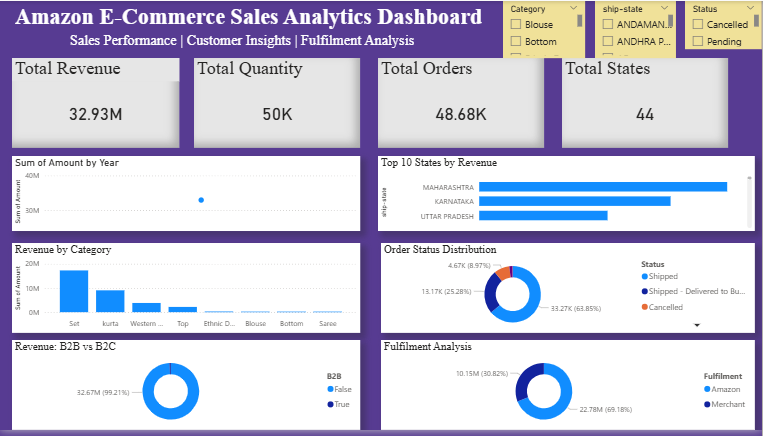

Layout of this report page (visuals, bound fields, positions):
{"tool":"powerbi","page":{"name":"Overview Dashboard","canvas":[1280,720],"ordinal":0},"visuals":[{"type":"textbox","box":[20.2,0,831.5,80.6],"z":0},{"type":"textbox","box":[112.5,48.7,596.3,79],"z":1000},{"type":"card","title":"Total Revenue","fields":{"Values":["Sum(amazon_sales_db amazon sale report.Amount)"]},"box":[20.2,95.7,280.5,151.2],"z":2000},{"type":"card","title":"Total Orders","fields":{"Values":["Count(amazon_sales_db amazon sale report.Order ID)"]},"box":[635,95.7,278.8,151.2],"z":3000},{"type":"card","title":"Total Quantity","fields":{"Values":["Sum(amazon_sales_db amazon sale report.Qty)"]},"box":[325.9,95.7,278.8,151.2],"z":4000},{"type":"card","title":"Total States","fields":{"Values":["Count(amazon_sales_db amazon sale report.ship-state)"]},"box":[944,95.7,278.8,151.2],"z":5000},{"type":"clusteredColumnChart","title":"Revenue by Category","fields":{"Category":["amazon_sales_db amazon sale report.Category"],"Y":["Sum(amazon_sales_db amazon sale report.Amount)"]},"box":[20.2,406.5,584.6,151.2],"z":6000},{"type":"clusteredBarChart","title":"Top 10 States by Revenue","fields":{"Category":["amazon_sales_db amazon sale report.ship-state"],"Y":["Sum(amazon_sales_db amazon sale report.Amount)"]},"box":[635,260.4,633.3,126],"z":7000},{"type":"donutChart","title":"Order Status Distribution","fields":{"Category":["amazon_sales_db amazon sale report.Status"],"Y":["CountNonNull(amazon_sales_db amazon sale report.Order ID)"]},"box":[640,406.5,628.2,151.2],"z":8000},{"type":"donutChart","title":"Fulfilment Analysis","fields":{"Category":["amazon_sales_db amazon sale report.Fulfilment"],"Y":["Sum(amazon_sales_db amazon sale report.Amount)"]},"box":[640,569.4,628.2,151.2],"z":9000},{"type":"lineChart","fields":{"Category":["amazon_sales_db amazon sale report.Date.Variation.Date Hierarchy.Year","amazon_sales_db amazon sale report.Date.Variation.Date Hierarchy.Quarter","amazon_sales_db amazon sale report.Date.Variation.Date Hierarchy.Month","amazon_sales_db amazon sale report.Date.Variation.Date Hierarchy.Day"],"Y":["Sum(amazon_sales_db amazon sale report.Amount)"]},"box":[20.2,260.4,584.6,126],"z":10000},{"type":"donutChart","title":"Revenue: B2B vs B2C","fields":{"Category":["amazon_sales_db amazon sale report.B2B"],"Y":["Sum(amazon_sales_db amazon sale report.Amount)"]},"box":[20.2,569.4,584.6,151.2],"z":11000},{"type":"slicer","fields":{"Values":["amazon_sales_db amazon sale report.Category"]},"box":[844.9,0,137.7,95.7],"z":12000},{"type":"slicer","fields":{"Values":["amazon_sales_db amazon sale report.ship-state"]},"box":[999.5,0,136.1,95.7],"z":13000},{"type":"slicer","fields":{"Values":["amazon_sales_db amazon sale report.Status"]},"box":[1150.7,0,129.3,80.6],"z":14000}]}

Visuals, with their boxes in screenshot pixels (x1, y1, x2, y2), scaled from the page's 1280x720 canvas onto the 763x436 screenshot:
textbox: (x1=12, y1=0, x2=508, y2=49)
textbox: (x1=67, y1=29, x2=423, y2=77)
"Total Revenue" card: (x1=12, y1=58, x2=179, y2=150)
"Total Orders" card: (x1=379, y1=58, x2=545, y2=150)
"Total Quantity" card: (x1=194, y1=58, x2=360, y2=150)
"Total States" card: (x1=563, y1=58, x2=729, y2=150)
"Revenue by Category" clusteredColumnChart: (x1=12, y1=246, x2=361, y2=338)
"Top 10 States by Revenue" clusteredBarChart: (x1=379, y1=158, x2=756, y2=234)
"Order Status Distribution" donutChart: (x1=382, y1=246, x2=756, y2=338)
"Fulfilment Analysis" donutChart: (x1=382, y1=345, x2=756, y2=435)
lineChart - amazon_sales_db amazon sale report.Date.Variation.Date Hierarchy.Year x amazon_sales_db amazon sale report.Date.Variation.Date Hierarchy.Quarter: (x1=12, y1=158, x2=361, y2=234)
"Revenue: B2B vs B2C" donutChart: (x1=12, y1=345, x2=361, y2=435)
slicer - amazon_sales_db amazon sale report.Category: (x1=504, y1=0, x2=586, y2=58)
slicer - amazon_sales_db amazon sale report.ship-state: (x1=596, y1=0, x2=677, y2=58)
slicer - amazon_sales_db amazon sale report.Status: (x1=686, y1=0, x2=762, y2=49)
